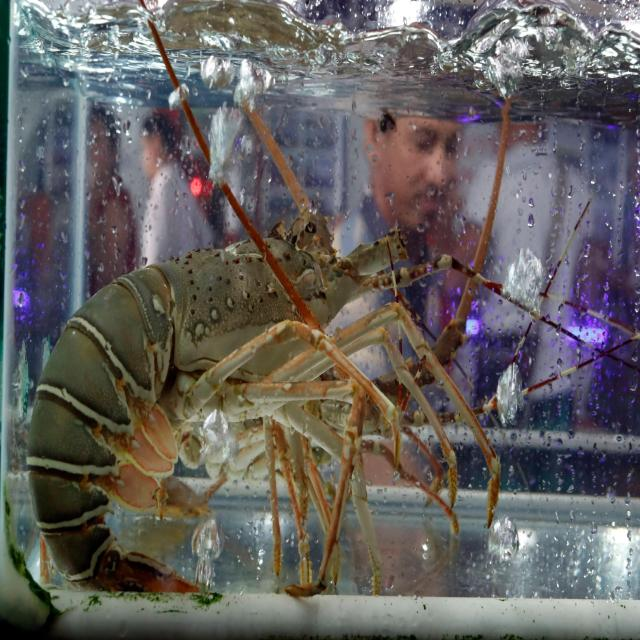Lobster: (28, 99, 530, 596)
lemon: (149, 19, 211, 163), (145, 572, 146, 574)
